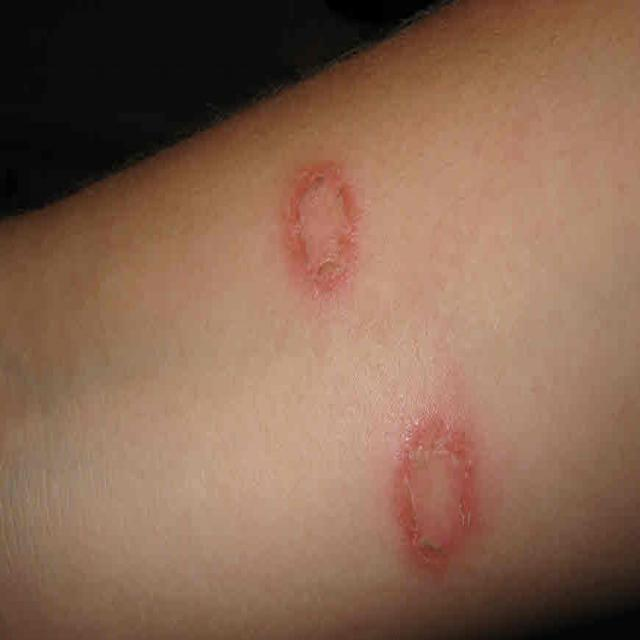tinea: (397, 434, 488, 593), (286, 156, 380, 309)
